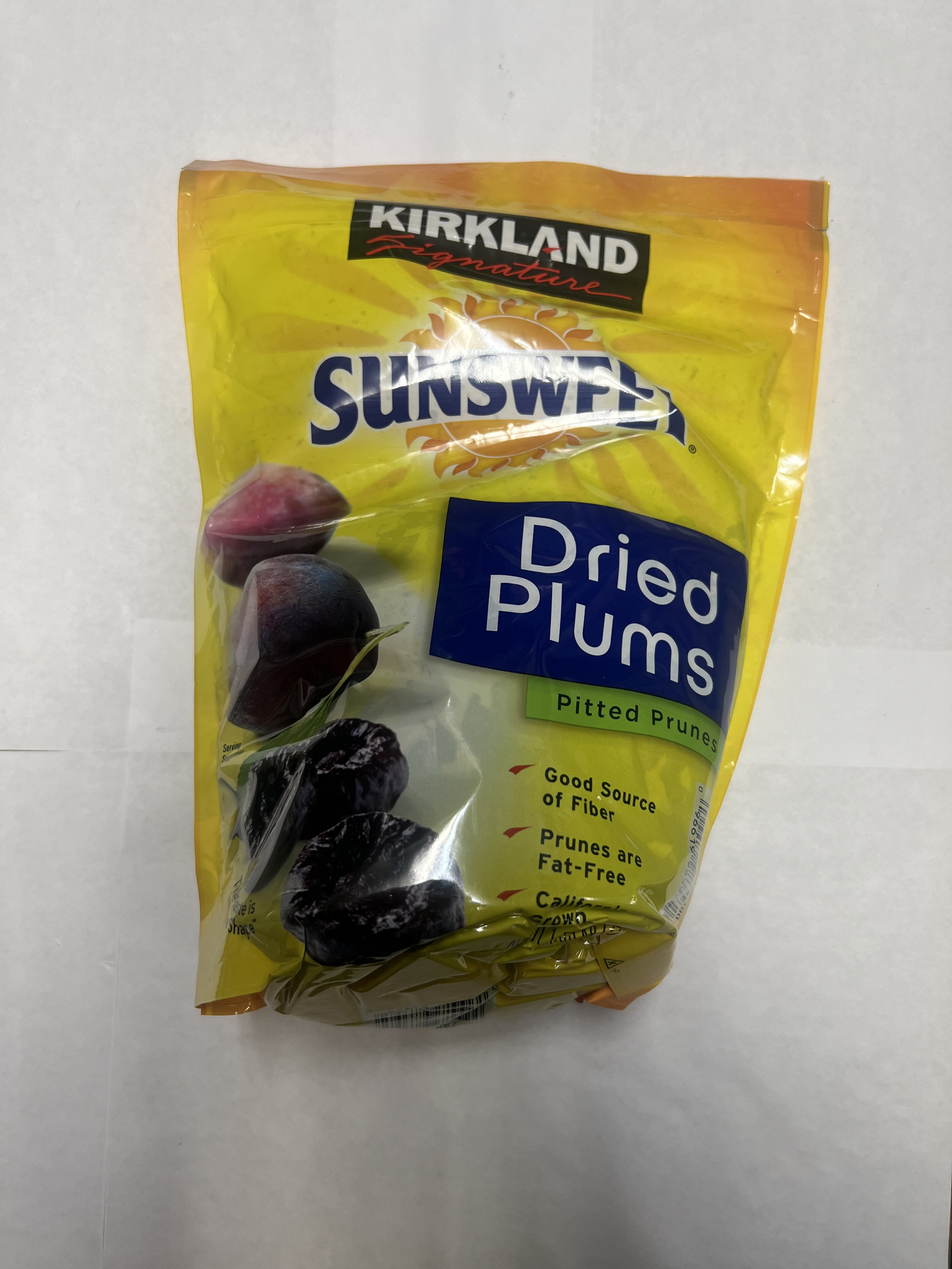packaged: (175, 151, 834, 1034)
